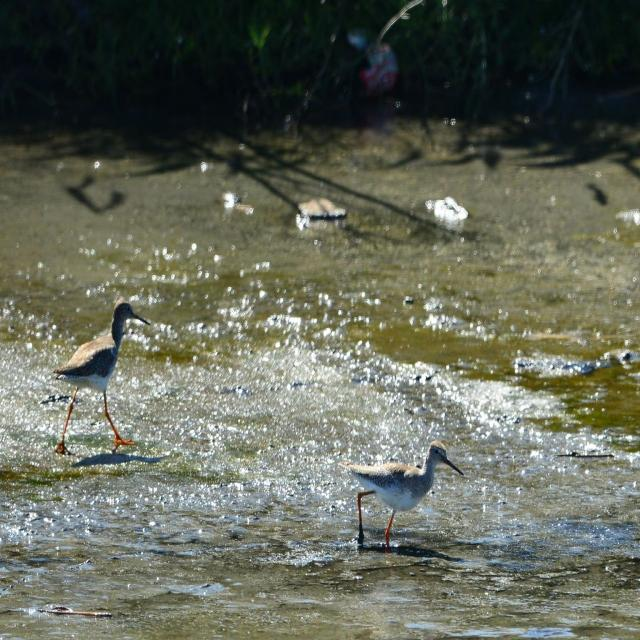bird: (43, 299, 152, 458), (336, 445, 462, 547)
